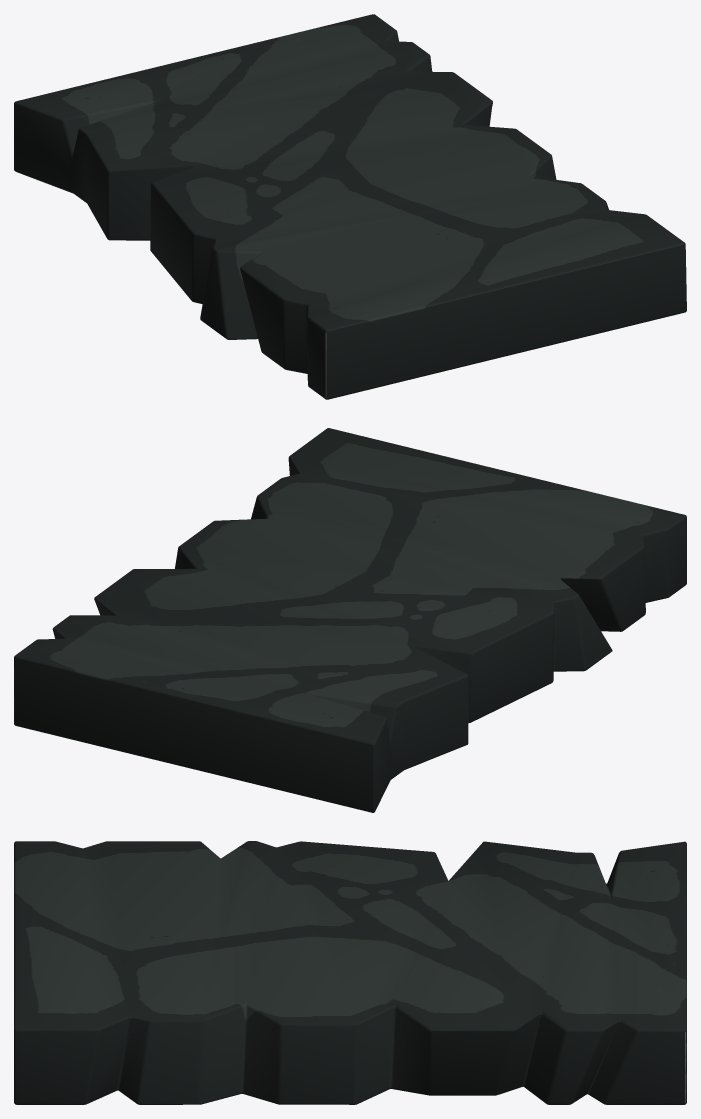
Rendered from unwrapped_floor_tile1.fbx.
3 views of the same model, one above another, from view 1: azimuth 30°, elevation 25°; view 2: azimuth 150°, elevation 25°; view 3: azimuth 270°, elevation 25° (orthographic). The views are drawn at different scales.
Parts seen in each view (by area): view 1: FloorTile1.001; view 2: FloorTile1.001; view 3: FloorTile1.001.
Boxes of the visible parts, <box> form: FloorTile1.001: <box>14,14,686,399</box>; FloorTile1.001: <box>14,428,686,812</box>; FloorTile1.001: <box>14,841,686,1104</box>.
Size of the model in its own units: 1034 by 186 by 1500.
